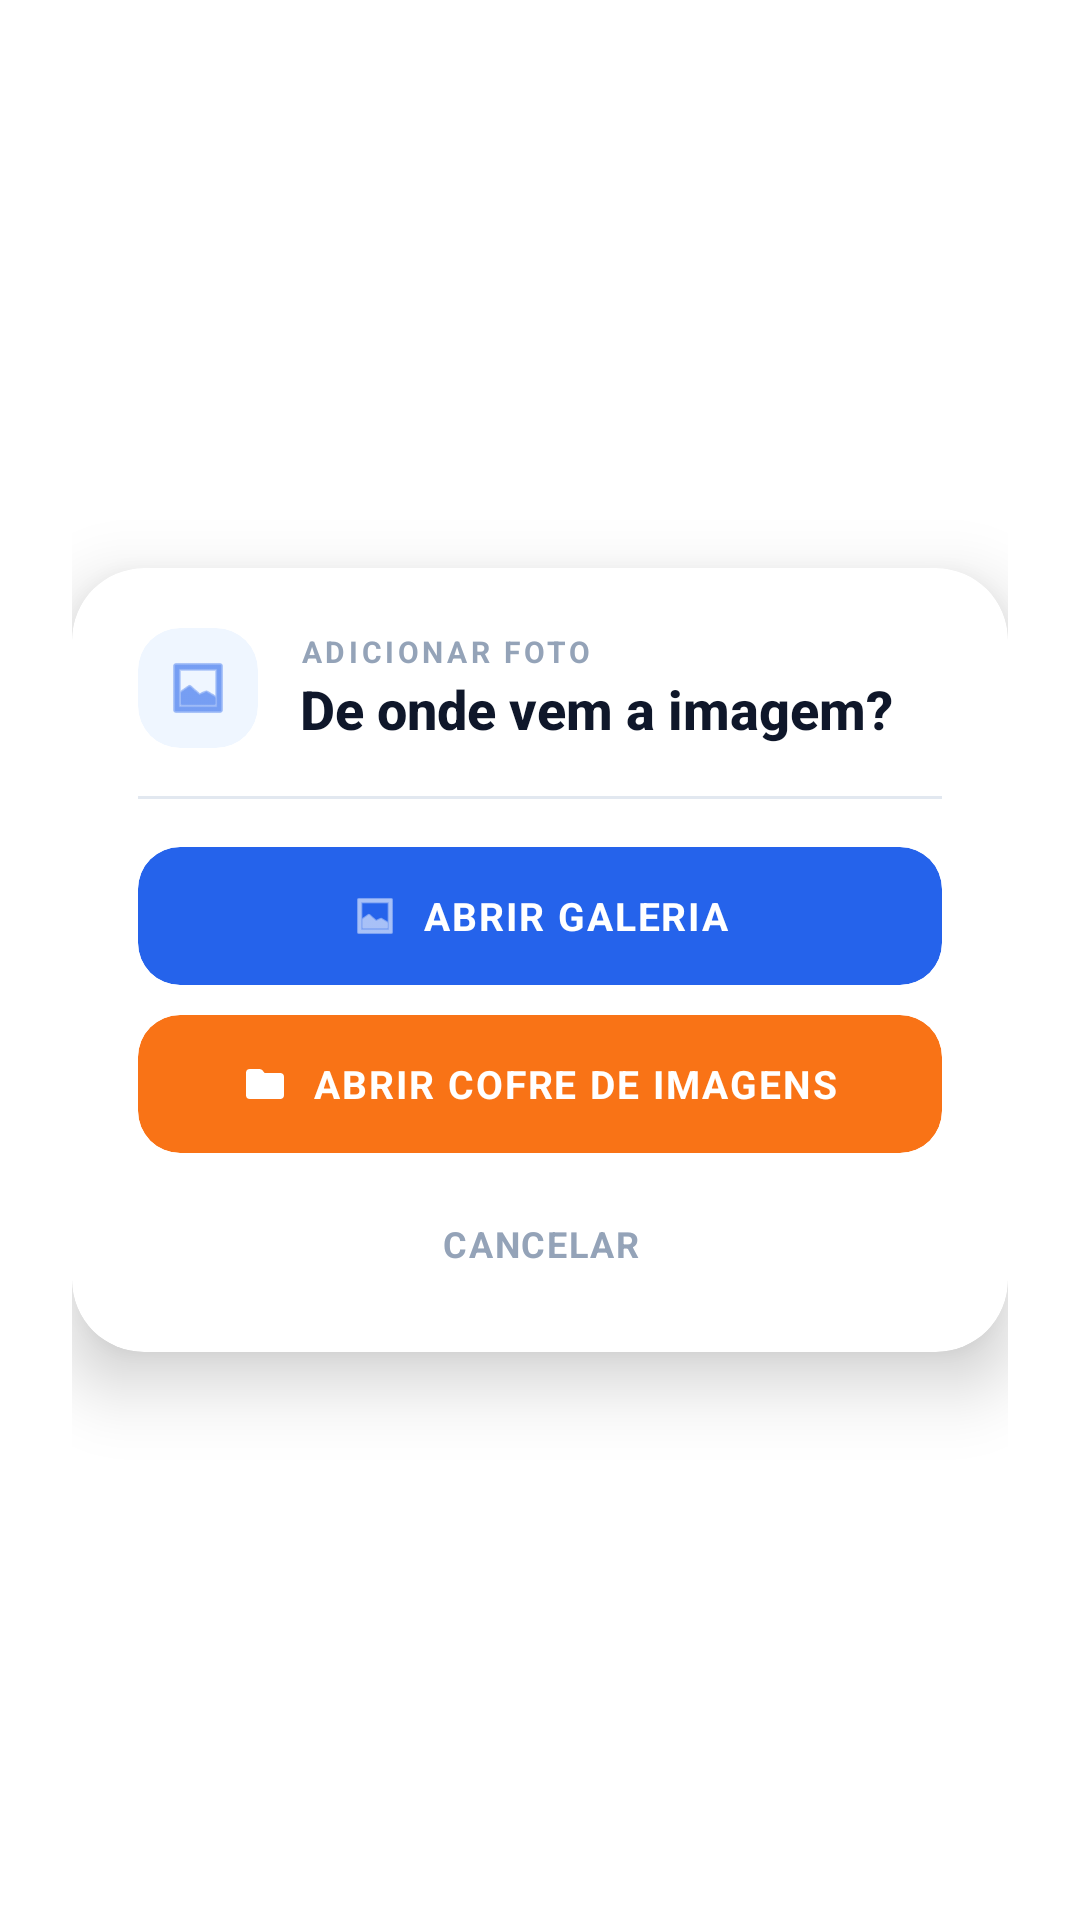

Named icons in this screenshot (1080px×1920px) and their centers, (x,y):
gallery: (198,688), (375,916)
pasta cofre: (265,1084)
